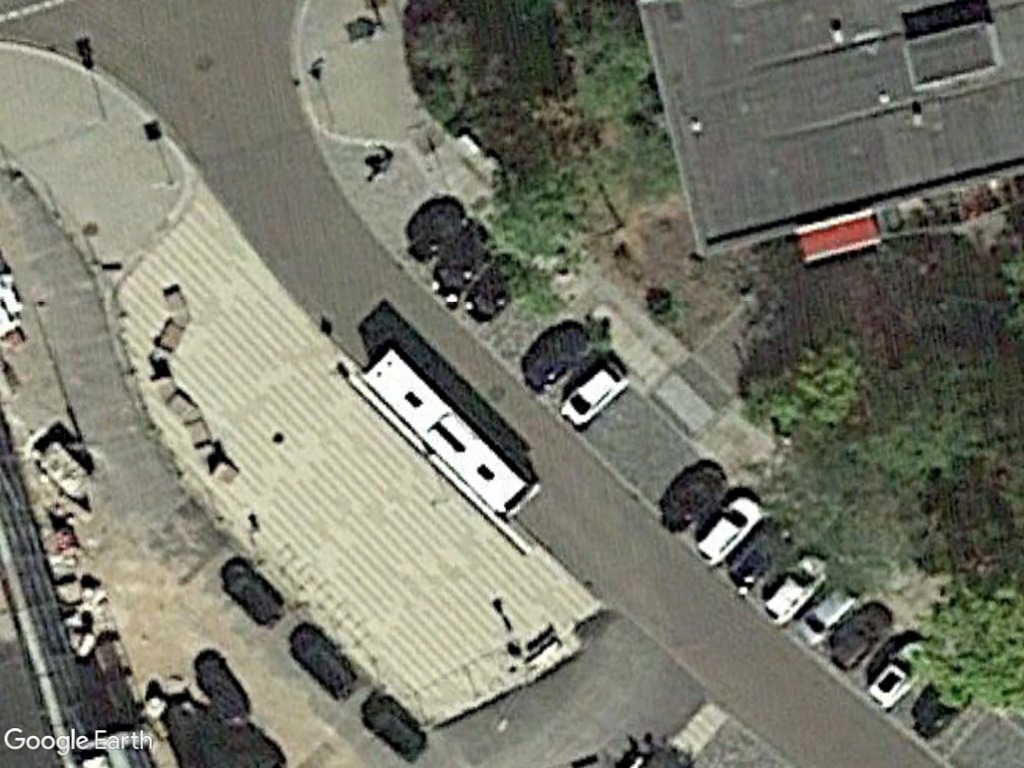bus: (350, 341, 540, 524)
car: (549, 357, 641, 433), (693, 488, 769, 570)
